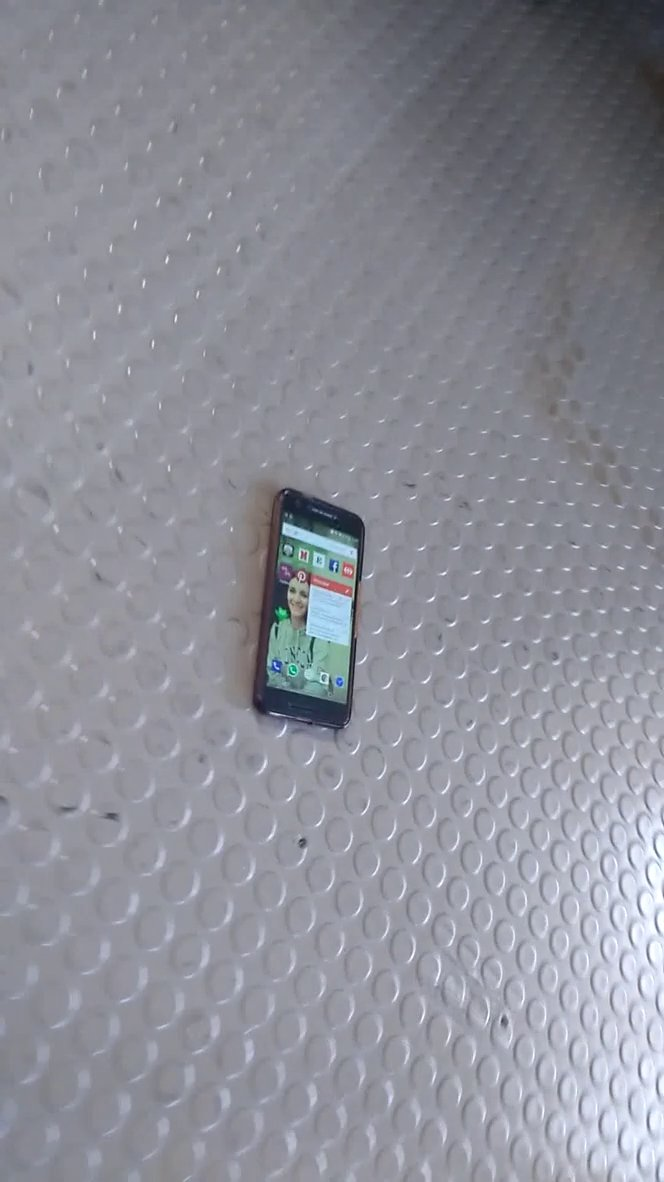phone: (235, 473, 390, 752)
